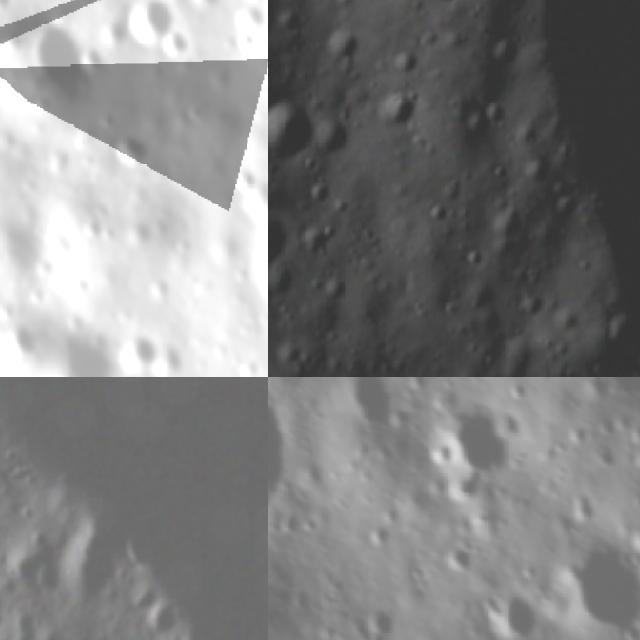crater: (564, 533, 640, 640), (20, 15, 90, 113), (443, 403, 514, 479), (3, 522, 64, 596), (44, 325, 122, 377), (341, 377, 401, 436), (268, 100, 319, 164), (489, 587, 546, 640), (121, 0, 175, 50), (118, 331, 162, 377), (137, 590, 177, 640), (113, 125, 154, 171), (600, 311, 640, 358), (355, 599, 400, 640), (375, 85, 415, 128), (3, 318, 37, 361), (276, 337, 320, 369), (296, 222, 334, 258), (76, 41, 107, 78), (448, 539, 480, 574), (481, 210, 524, 236), (323, 28, 357, 60), (227, 163, 260, 194), (182, 0, 224, 21), (489, 40, 521, 66), (162, 31, 187, 64), (268, 9, 302, 33), (483, 100, 511, 128), (547, 196, 583, 217), (268, 271, 297, 297), (320, 273, 350, 298), (268, 214, 280, 270), (304, 179, 333, 201), (520, 161, 550, 182), (423, 203, 451, 225), (520, 293, 542, 320), (459, 248, 487, 269), (0, 414, 10, 463), (572, 253, 592, 275), (466, 111, 484, 135), (479, 352, 500, 372), (542, 182, 572, 196), (441, 174, 462, 192), (487, 165, 506, 183), (330, 196, 347, 216), (299, 153, 318, 170), (466, 340, 480, 356), (632, 349, 640, 370)
